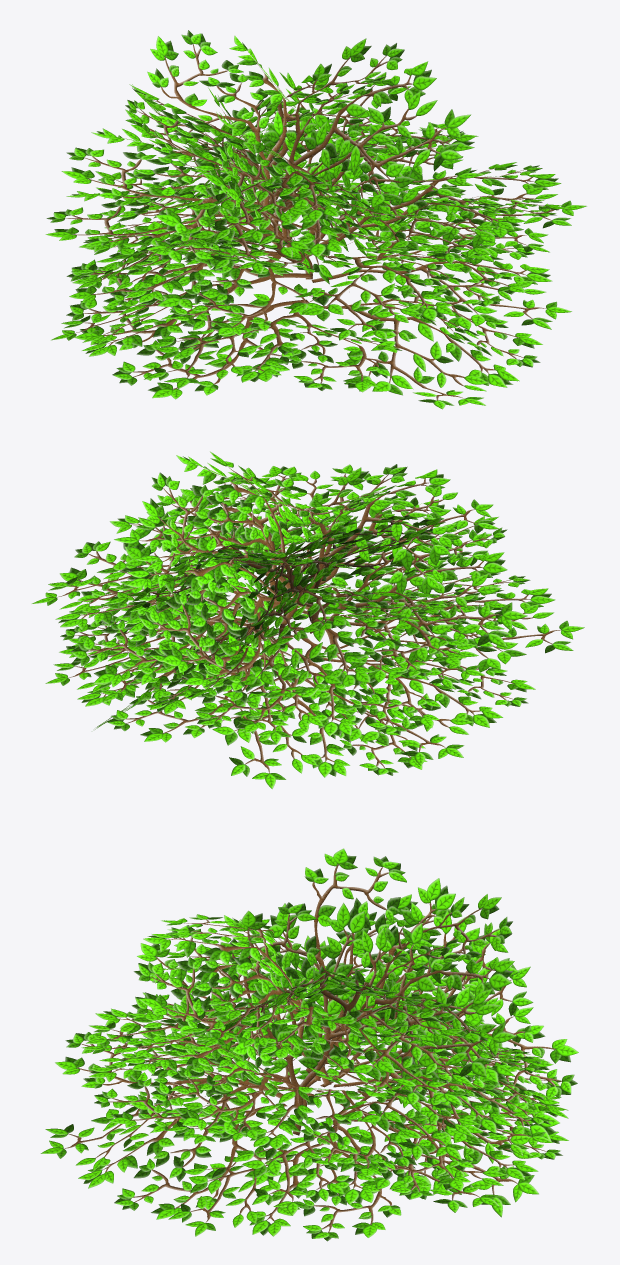
File: Bush.fbx
The picture shows the model from 3 angles, top to bottom: view 1: azimuth 30°, elevation 25°; view 2: azimuth 150°, elevation 25°; view 3: azimuth 270°, elevation 25°; orthographic projection. The views are drawn at different scales.
Visible parts, largest first — view 1: polySurface13, polySurface14; view 2: polySurface13, polySurface14; view 3: polySurface13, polySurface14.
Boxes of the visible parts, x1,y1,x2,y2 form: polySurface13: (45,30,586,409); polySurface14: (50,30,582,408); polySurface13: (32,451,584,789); polySurface14: (33,456,581,787); polySurface13: (40,848,578,1241); polySurface14: (55,849,577,1238).
Size of the model in its own units: 12.43 by 6.21 by 12.84.
